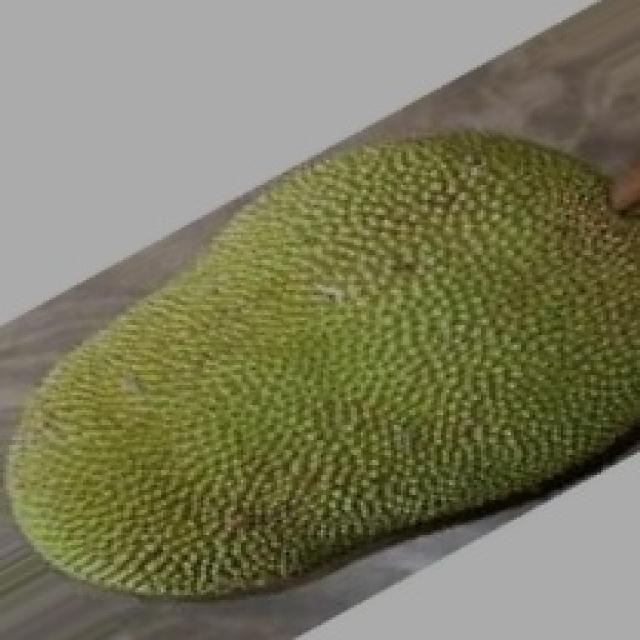Fruit: (0, 265, 400, 633), (215, 105, 640, 415)
